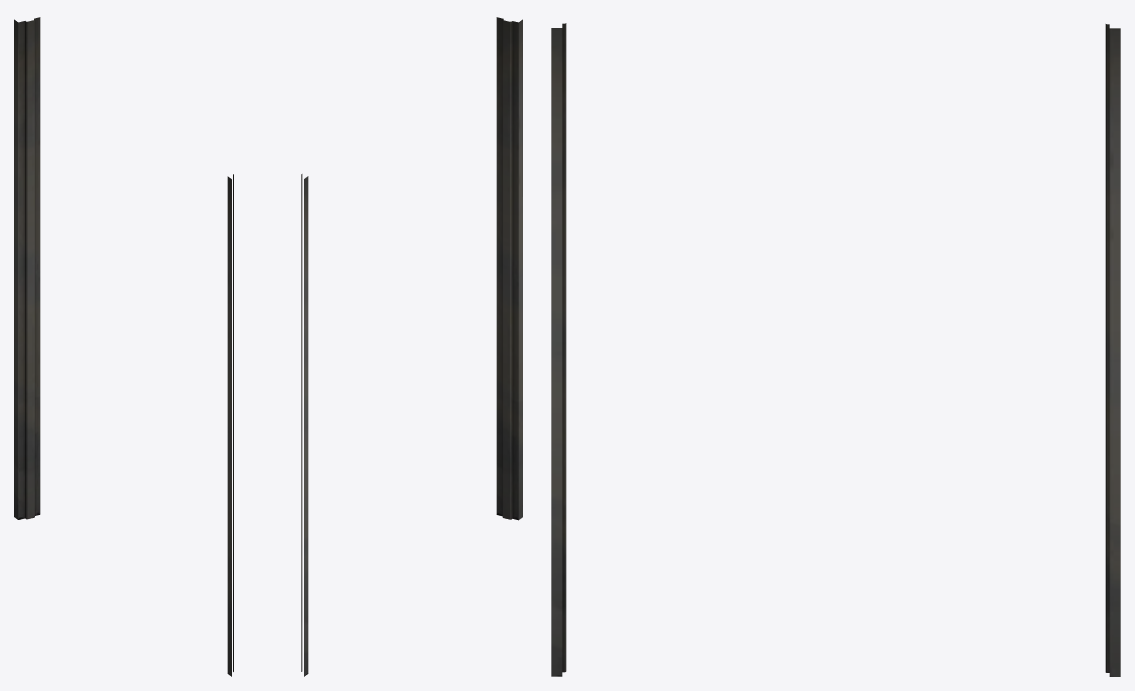
3 views of the same model, side by side, from view 1: azimuth 30°, elevation 25°; view 2: azimuth 150°, elevation 25°; view 3: azimuth 270°, elevation 25° (orthographic). The views are drawn at different scales.
Parts seen in each view (by area): view 1: body0_model0_lod0_mesh0; view 2: body0_model0_lod0_mesh0; view 3: body0_model0_lod0_mesh0.
Part boxes in pixels (x1,y1,x2,y2): body0_model0_lod0_mesh0: (14, 17, 233, 676); body0_model0_lod0_mesh0: (301, 17, 522, 676); body0_model0_lod0_mesh0: (551, 23, 1120, 676).
Size of the model in its own units: 7.55 by 160 by 127.
1 material, 1 textured.
